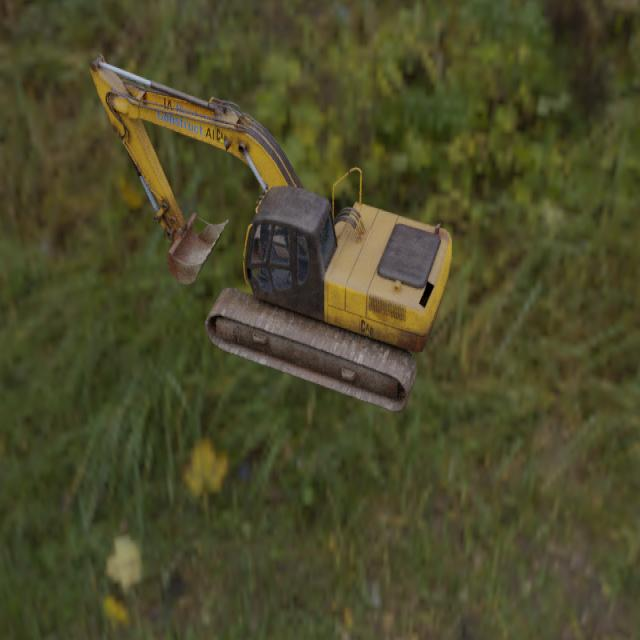excavator: (89, 52, 452, 412)
